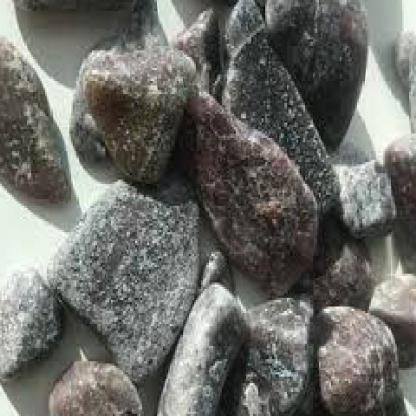Metamorphic_Quartize: (172, 83, 341, 280), (50, 173, 194, 370), (71, 20, 192, 182), (0, 26, 68, 204), (152, 284, 244, 414), (321, 302, 402, 407), (33, 346, 154, 414), (327, 147, 404, 241), (0, 263, 64, 374)
